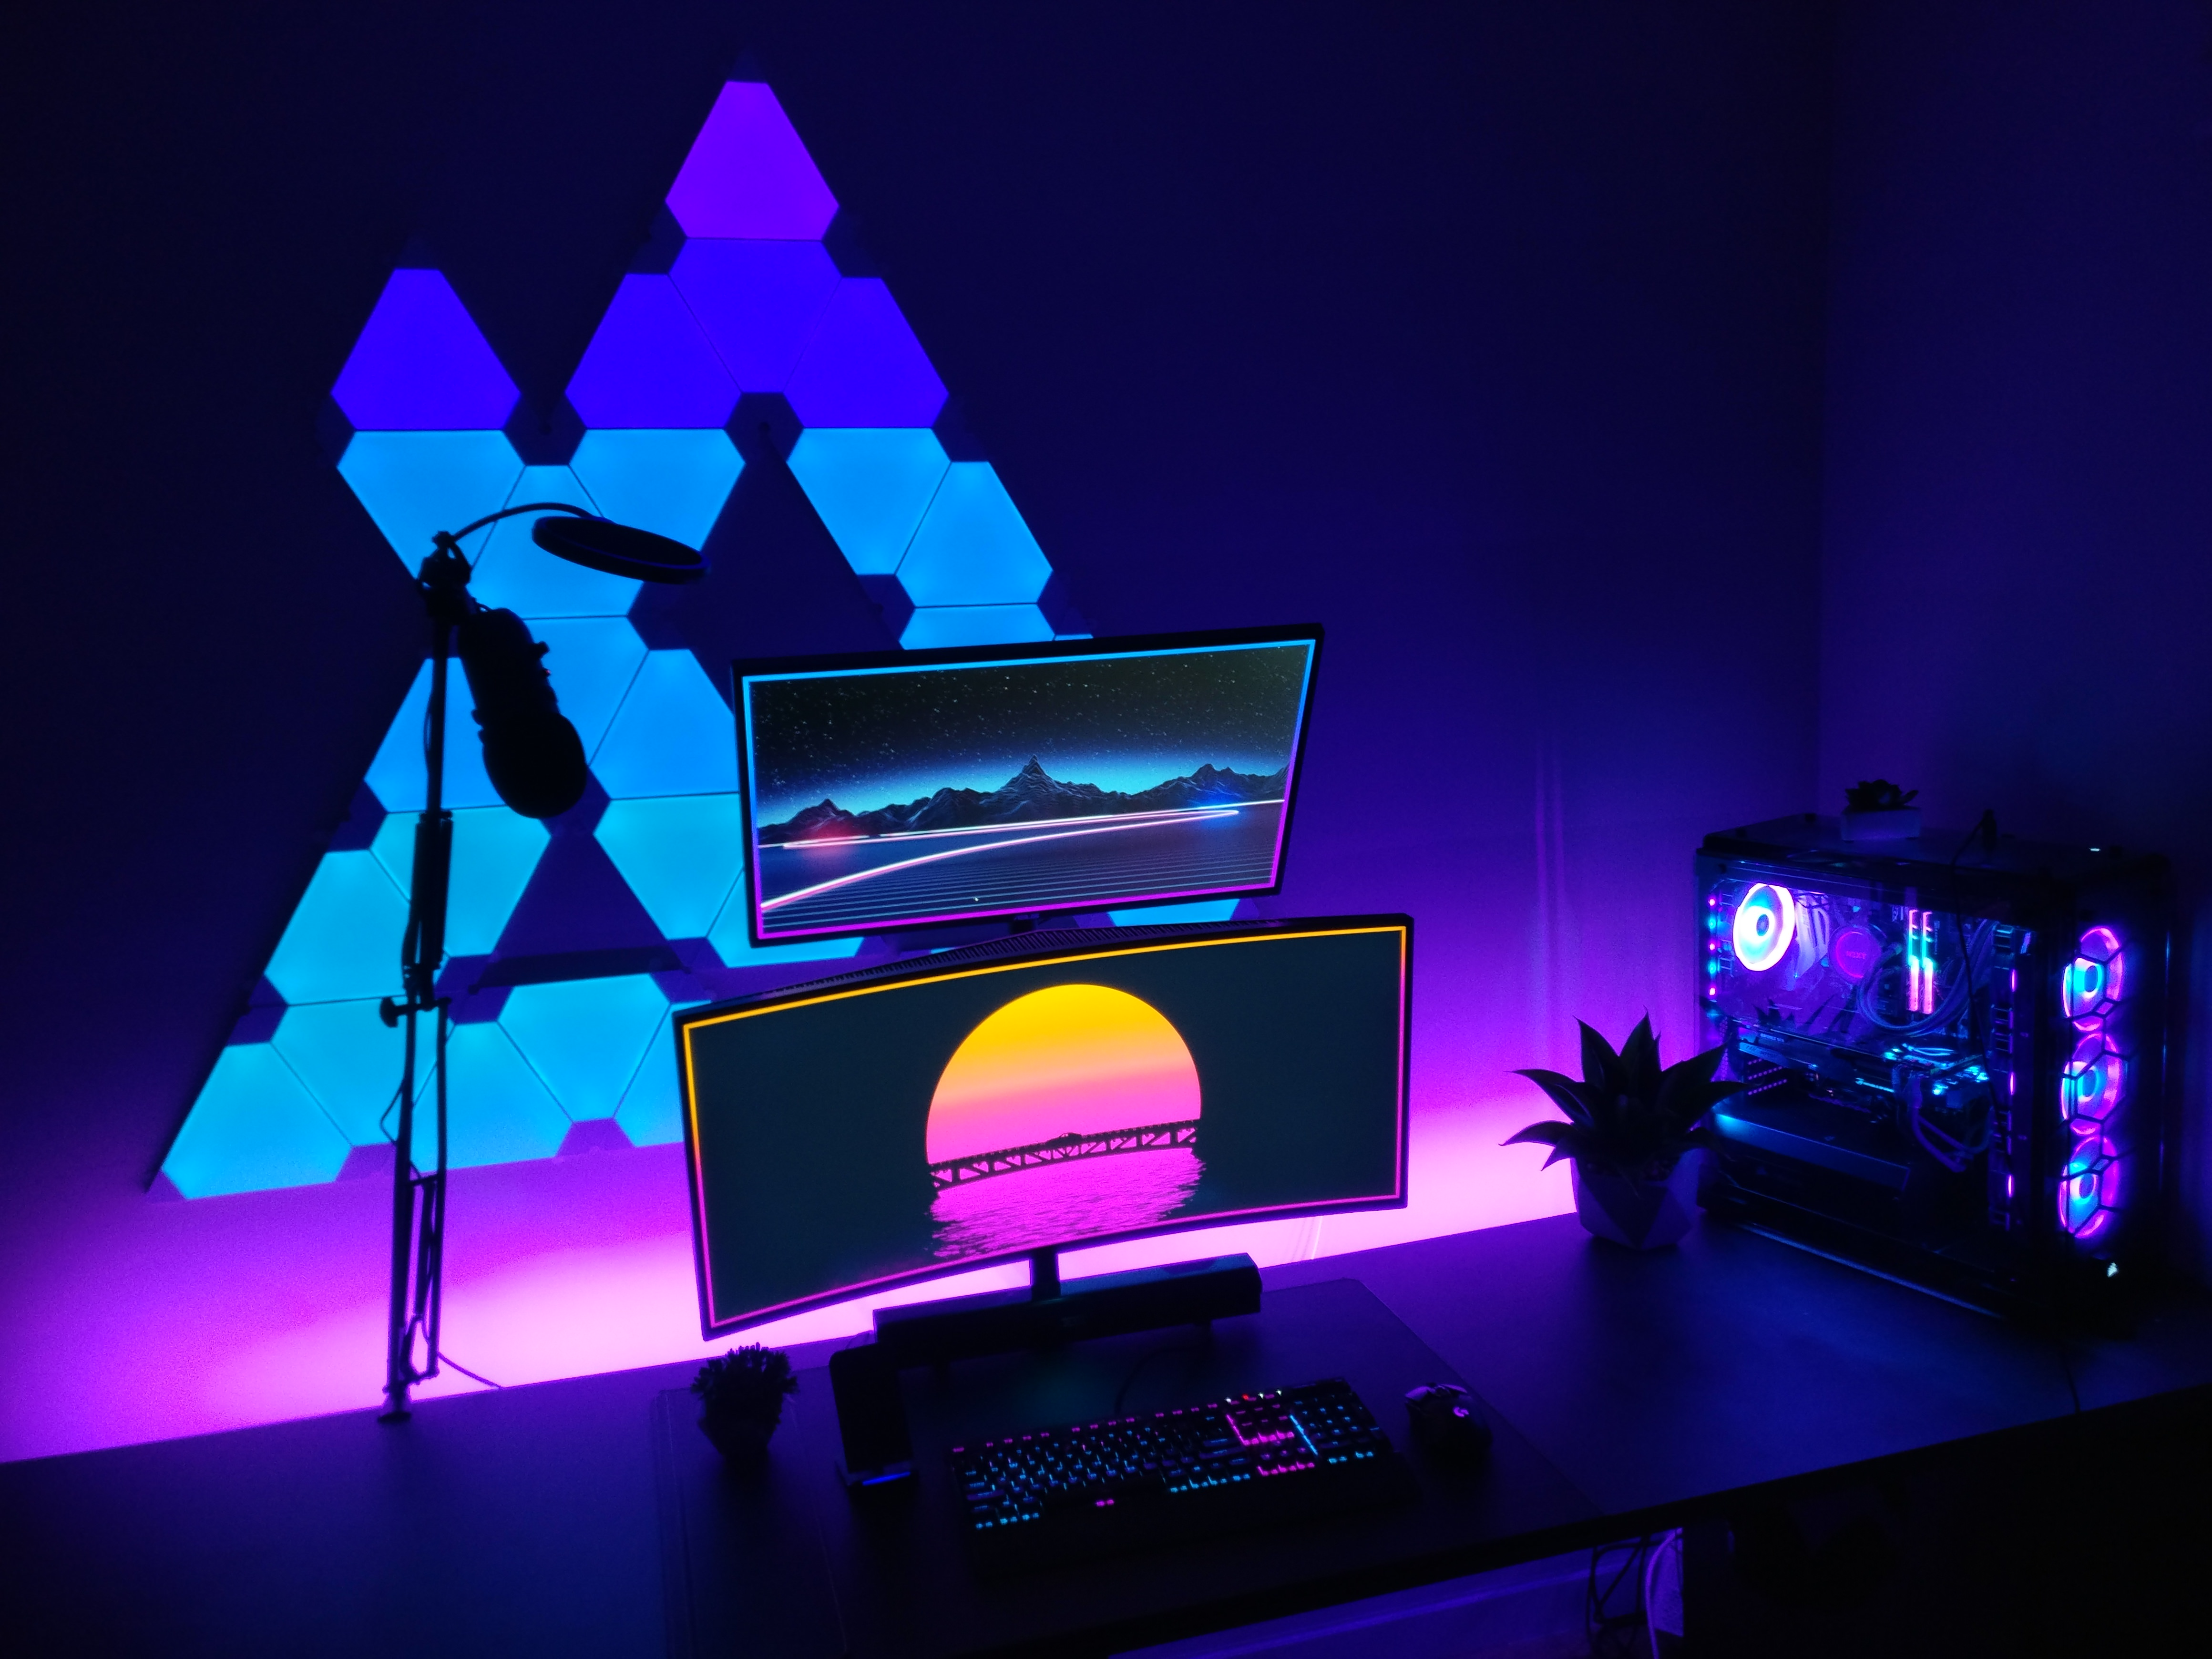Cellphone: (827, 1354, 914, 1471)
Decoration (Plant): (1500, 1007, 1759, 1255), (683, 1344, 805, 1462), (1838, 779, 1923, 840)
Desk (Generic): (12, 1192, 2212, 1657)
Desktop (Generic): (1696, 812, 2196, 1331)
External Microphone (with Boom Arm): (381, 504, 709, 1422)
Keyboard (Gaming): (939, 1377, 1395, 1547)
Monitor (Landscape): (669, 913, 1414, 1340), (732, 624, 1327, 950)
Mouse (Gaming): (1400, 1380, 1493, 1464)
Mousepad (Gaming): (651, 1281, 1606, 1657)
Phone Holder: (836, 1474, 911, 1490)
